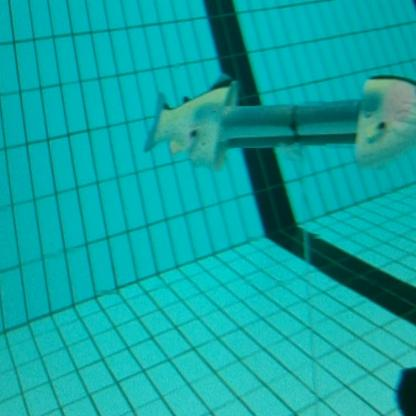tail: (143, 69, 238, 172)
